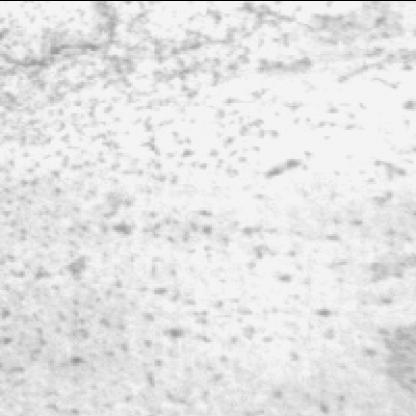pitted_surface: (12, 100, 416, 410), (6, 2, 370, 116)
